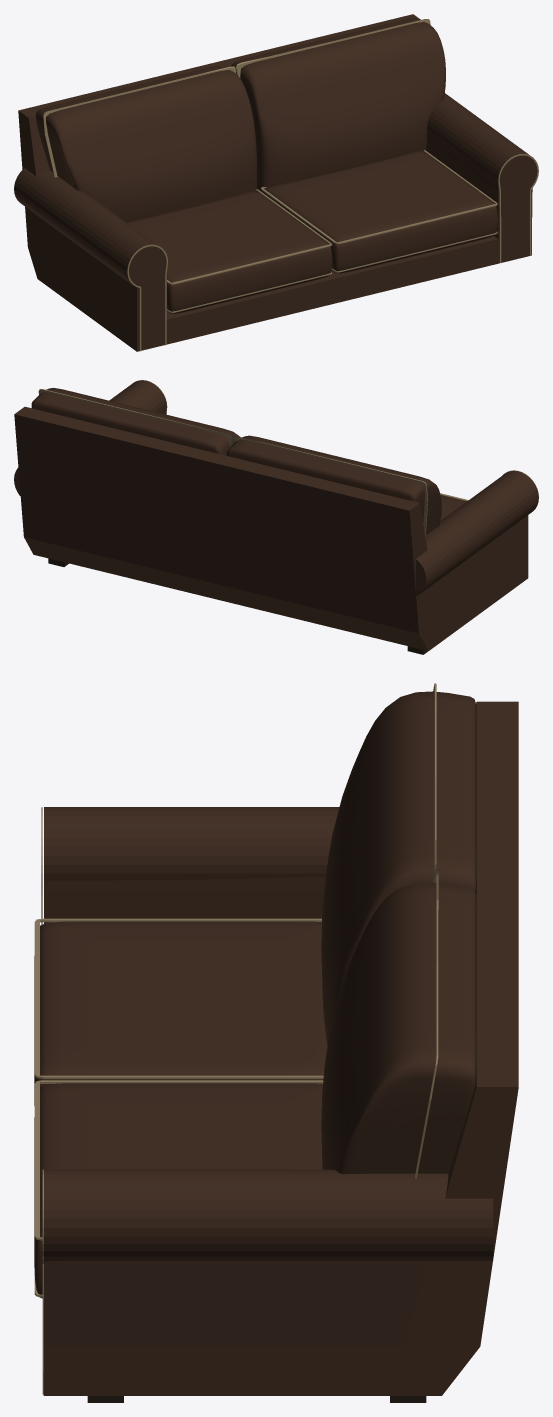
The picture shows the model from 3 angles, top to bottom: view 1: azimuth 30°, elevation 25°; view 2: azimuth 150°, elevation 25°; view 3: azimuth 270°, elevation 25°; orthographic projection. The views are drawn at different scales.
Visible parts, largest first — view 1: Object_6, Object_3, Object_7, Object_5; view 2: Object_6, Object_3, Object_5; view 3: Object_6, Object_3, Object_7, Object_5.
Part boxes in pixels (box(x1,y1,x2,y2)): Object_6: box(14, 14, 537, 351); Object_3: box(36, 18, 445, 222); Object_7: box(127, 150, 538, 351); Object_5: box(43, 19, 430, 177); Object_6: box(14, 380, 538, 650); Object_3: box(31, 388, 441, 534); Object_5: box(38, 389, 428, 537); Object_6: box(34, 701, 518, 1395); Object_3: box(321, 691, 476, 1173); Object_7: box(34, 807, 323, 1394); Object_5: box(415, 683, 438, 1178).
Size of the model in its own units: 1.98 by 0.8109 by 1.01.
